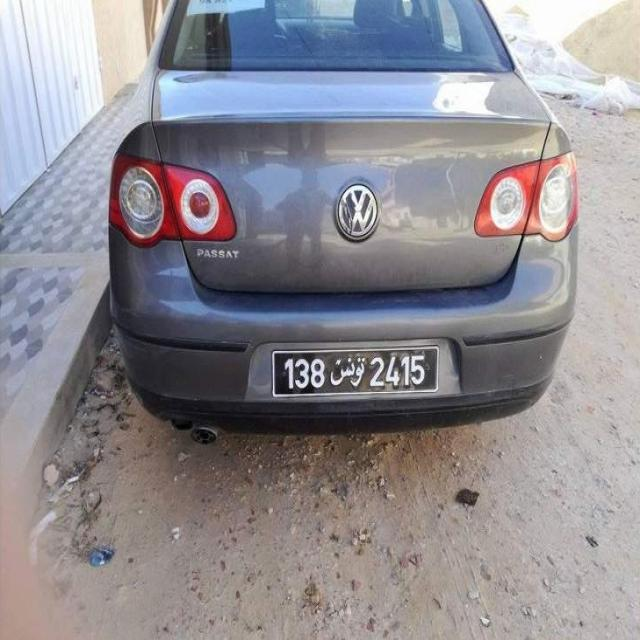licence plate: (273, 346, 439, 395)
